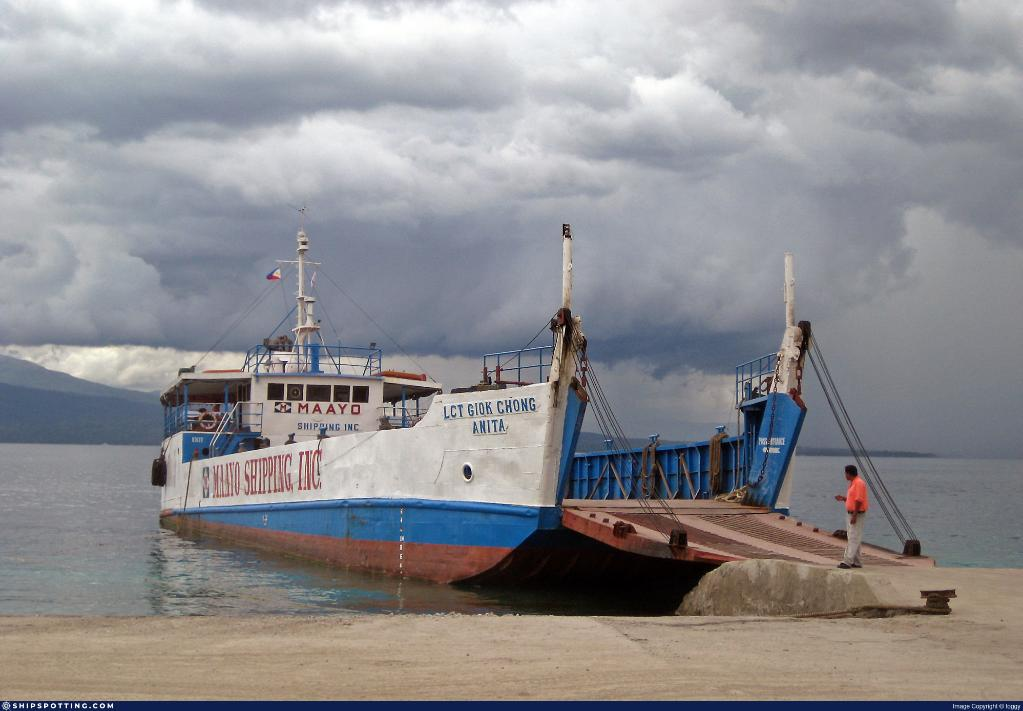PassengerShip: (138, 216, 908, 582)
